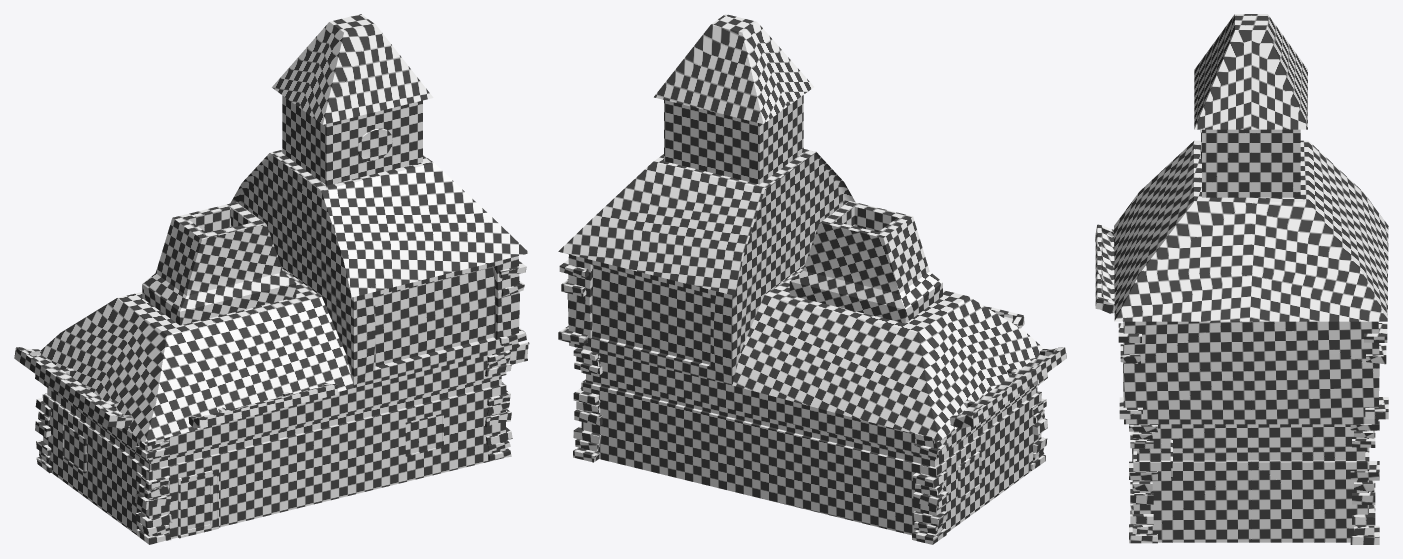
File: House_4.fbx
3 renders of one model, left to right at view 1: azimuth 30°, elevation 25°; view 2: azimuth 150°, elevation 25°; view 3: azimuth 270°, elevation 25°, orthographic. The views are drawn at different scales.
Visible parts, largest first — view 1: House_4; view 2: House_4; view 3: House_4.
Part boxes in pixels (x1,y1,x2,y2): House_4: [14, 14, 529, 544]; House_4: [558, 14, 1066, 544]; House_4: [1095, 14, 1388, 544].
Size of the model in its own units: 1539 by 1436 by 818.
Materials: 1 (1 with a texture image).
